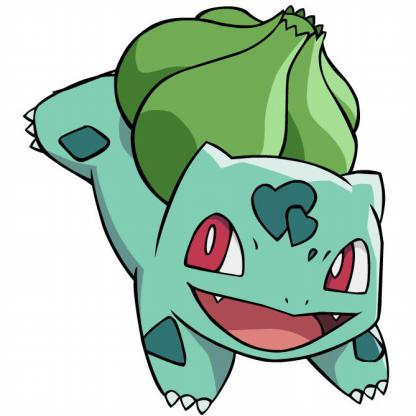Bulbasaur: (1, 1, 416, 416), (22, 1, 416, 416)
